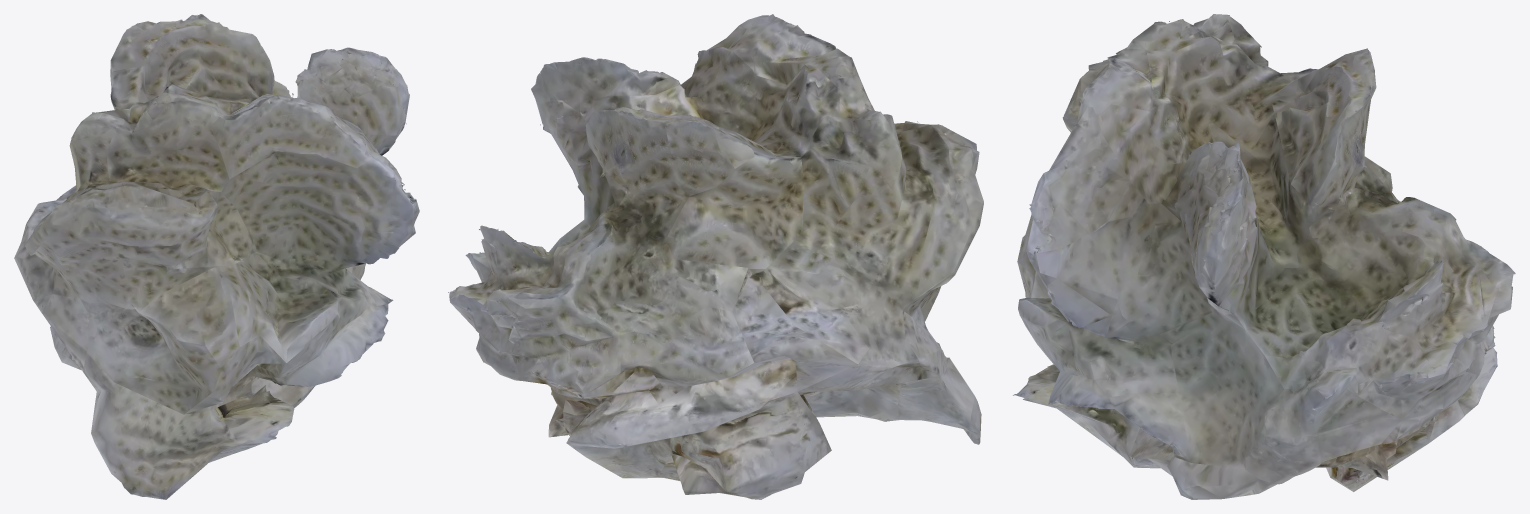
Rendered from coral-lettuce.glb.
3 views of the same model, side by side, from view 1: azimuth 30°, elevation 25°; view 2: azimuth 150°, elevation 25°; view 3: azimuth 270°, elevation 25° (orthographic). The views are drawn at different scales.
Parts seen in each view (by area): view 1: Object_2; view 2: Object_2; view 3: Object_2.
Part boxes in pixels (<box>): Object_2: <box>14,14,419,499</box>; Object_2: <box>448,14,983,499</box>; Object_2: <box>1013,14,1515,499</box>.
Size of the model in its own units: 1.72 by 1.47 by 1.63.
1 material, 1 textured.
